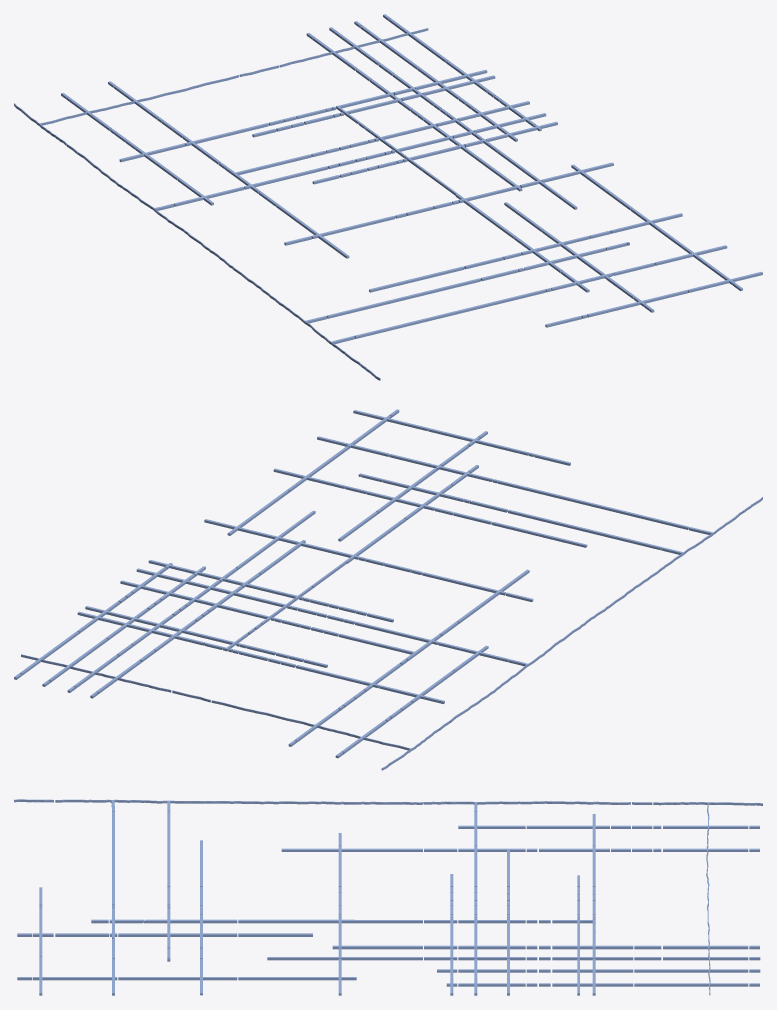
The model's file is main_roads.glb.
3 views of the same model, one above another, from view 1: azimuth 30°, elevation 25°; view 2: azimuth 150°, elevation 25°; view 3: azimuth 270°, elevation 25° (orthographic).
Visible parts, largest first — view 1: world; view 2: world; view 3: world.
Boxes of the visible parts, x1=… form: world: x1=14, y1=14, x2=762, y2=380; world: x1=14, y1=409, x2=762, y2=770; world: x1=14, y1=799, x2=762, y2=995.
Bounding box in the file's own units: 186 × 1 × 303.
